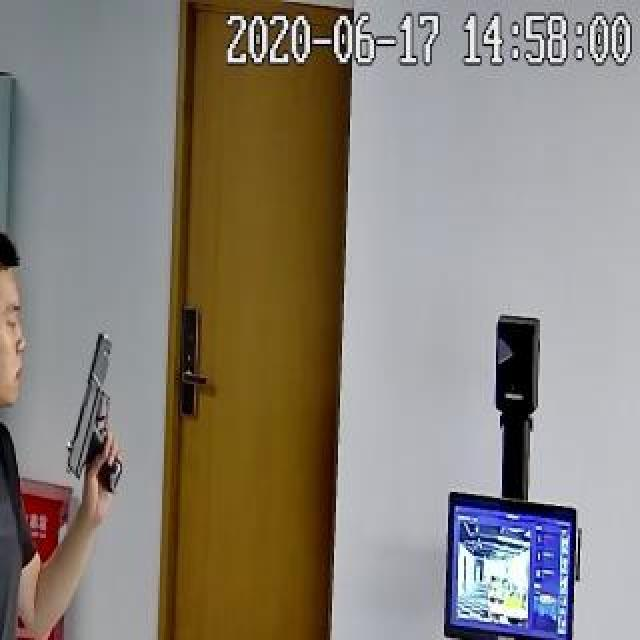Guns: (56, 320, 133, 518)
